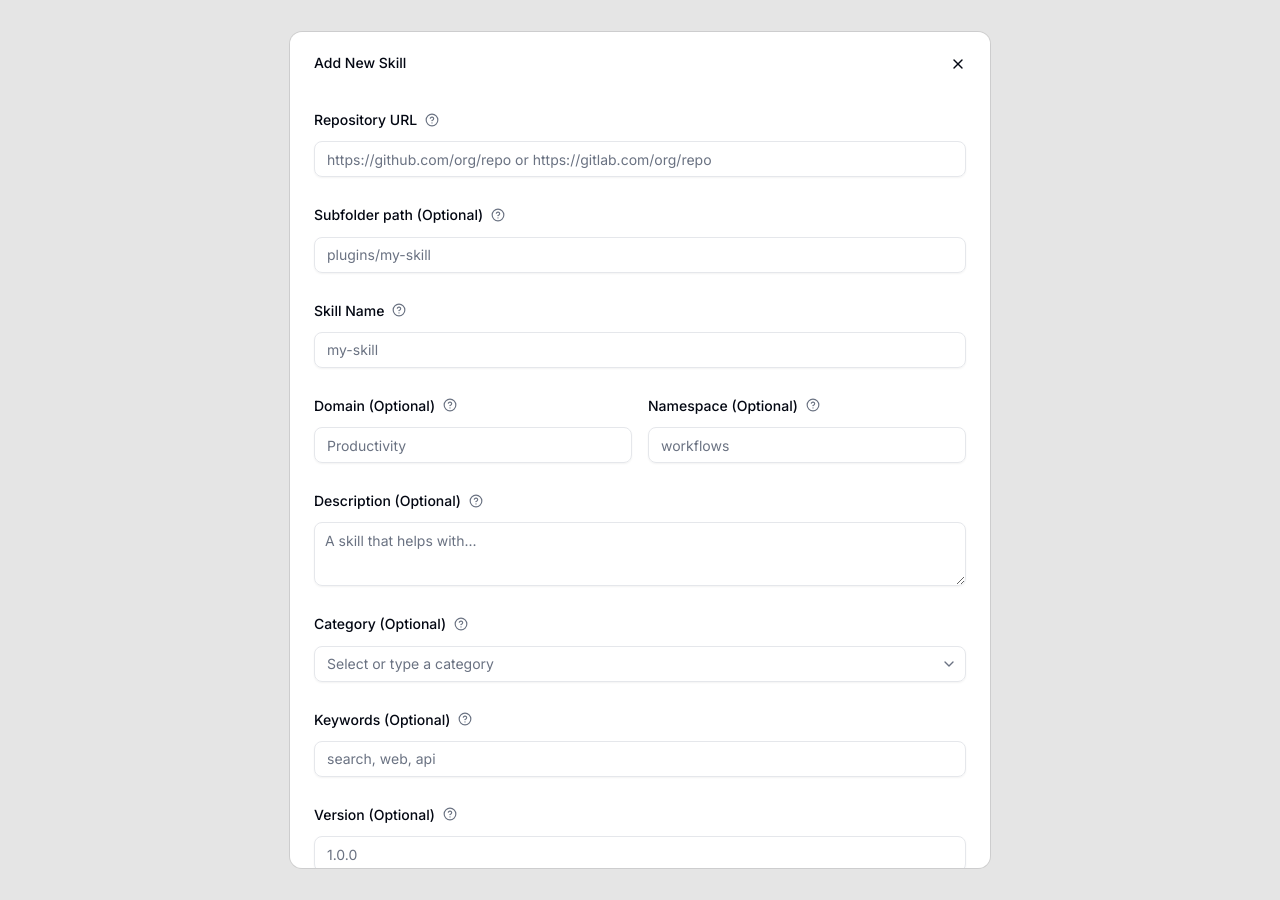
Test: AddPluginForm › shows git-subdir preview for a tree URL and disables the subfolder field
In the field with placeholder "https://github.com/org/repo or https://gitlab.com/org/repo": {"x": 640, "y": 159} x1=314 y1=141 x2=966 y2=177, type "https://github.com/anthropics/claude-code/tree/main/plugins/my-skill"
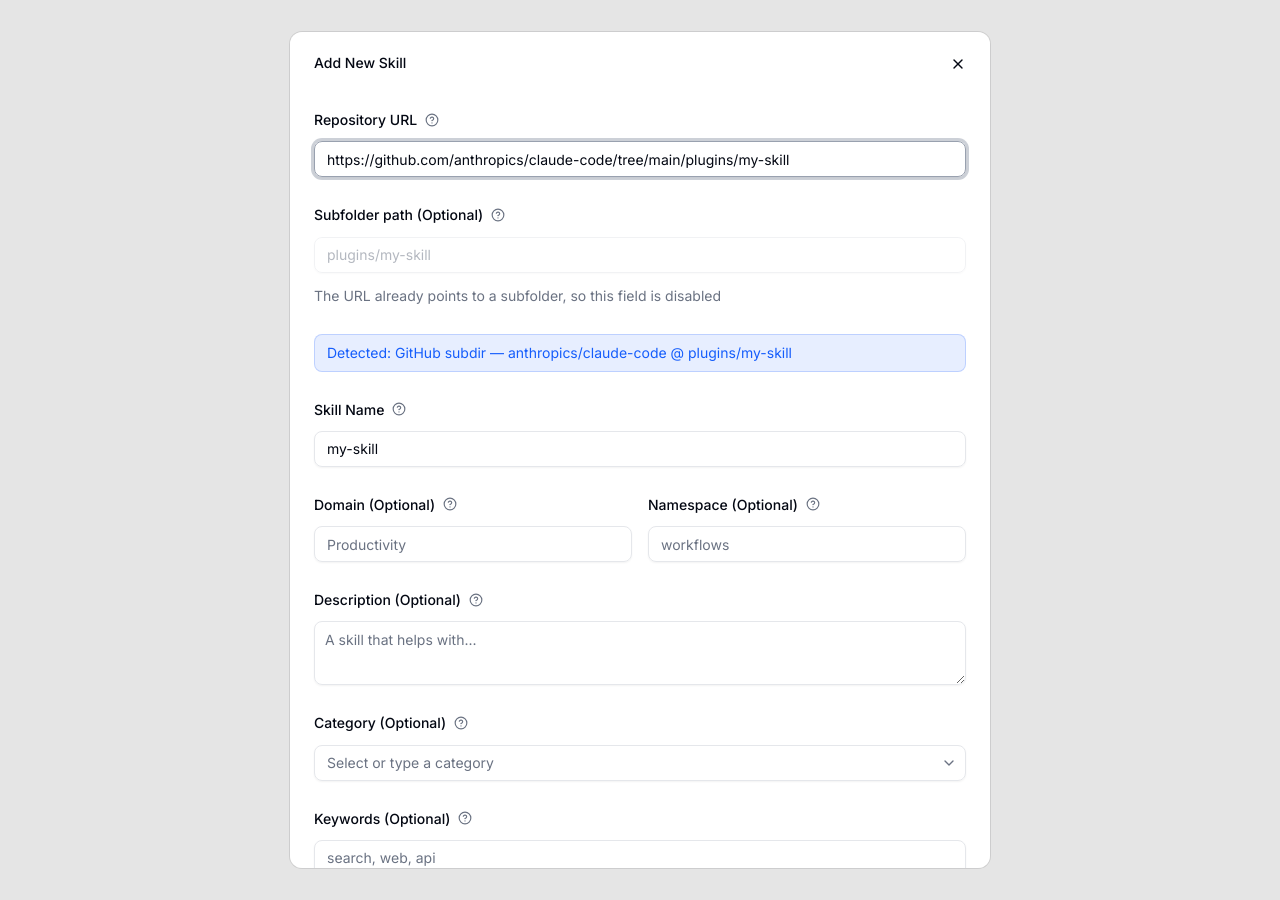
Now the text "GitHub subdir" is shown, box x1=395 y1=344 x2=792 y2=360
Now the field with placeholder "plugins/my-skill" is disabled, box x1=314 y1=236 x2=966 y2=272
